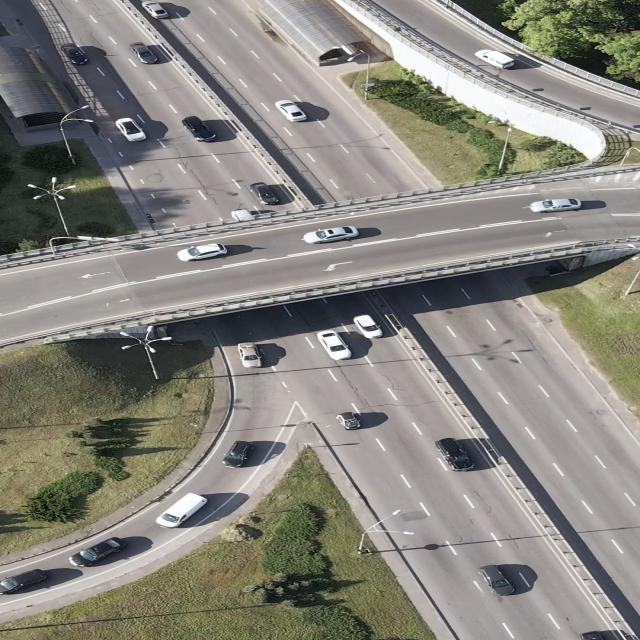vehicle: (154, 492, 208, 528), (68, 536, 128, 568), (1, 568, 48, 596), (478, 564, 516, 596), (436, 438, 474, 470), (316, 330, 352, 360), (303, 226, 360, 244), (177, 242, 228, 262), (221, 440, 254, 468), (182, 115, 216, 142), (115, 116, 147, 142), (474, 50, 516, 68), (530, 198, 582, 212), (275, 100, 308, 122), (354, 314, 384, 338), (250, 182, 280, 204), (130, 42, 158, 64), (238, 343, 262, 368), (142, 0, 170, 18), (64, 46, 89, 64), (338, 412, 360, 429), (580, 630, 612, 640)
